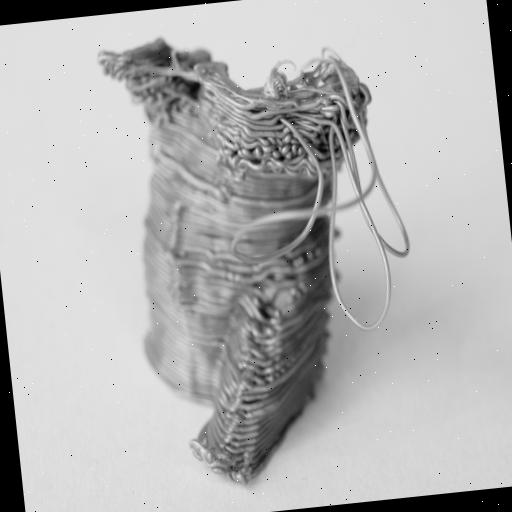spaghetti: (89, 6, 388, 204), (288, 38, 432, 337)
